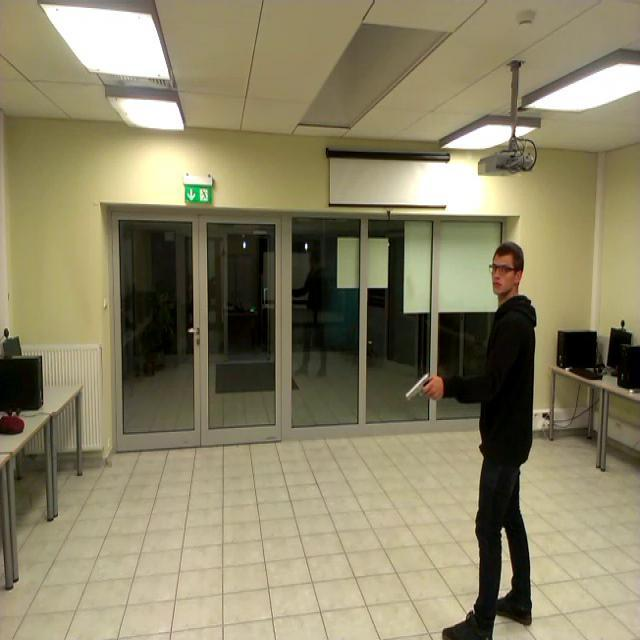Gun: (407, 372, 438, 400)
